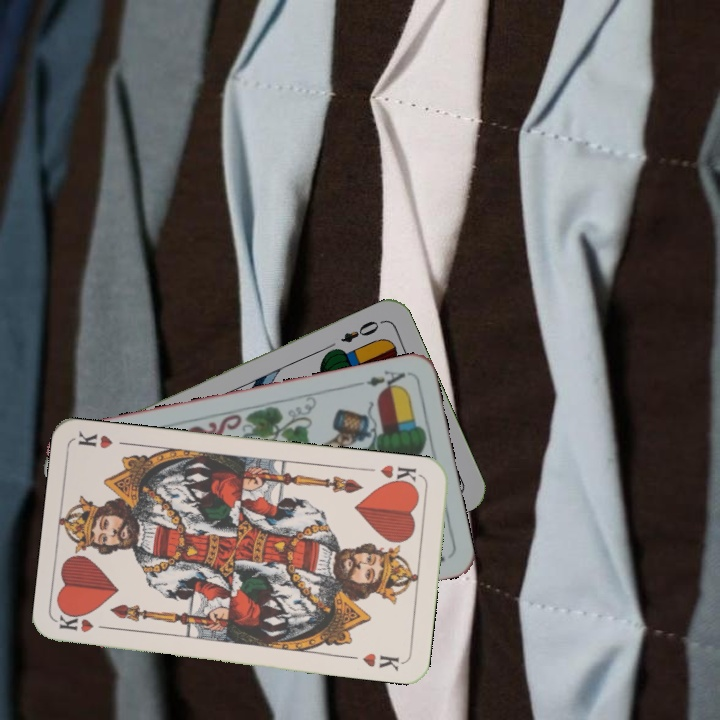EA: (361, 366, 408, 395)
EO: (337, 317, 382, 345)
HK: (56, 611, 115, 635), (376, 460, 419, 490)
